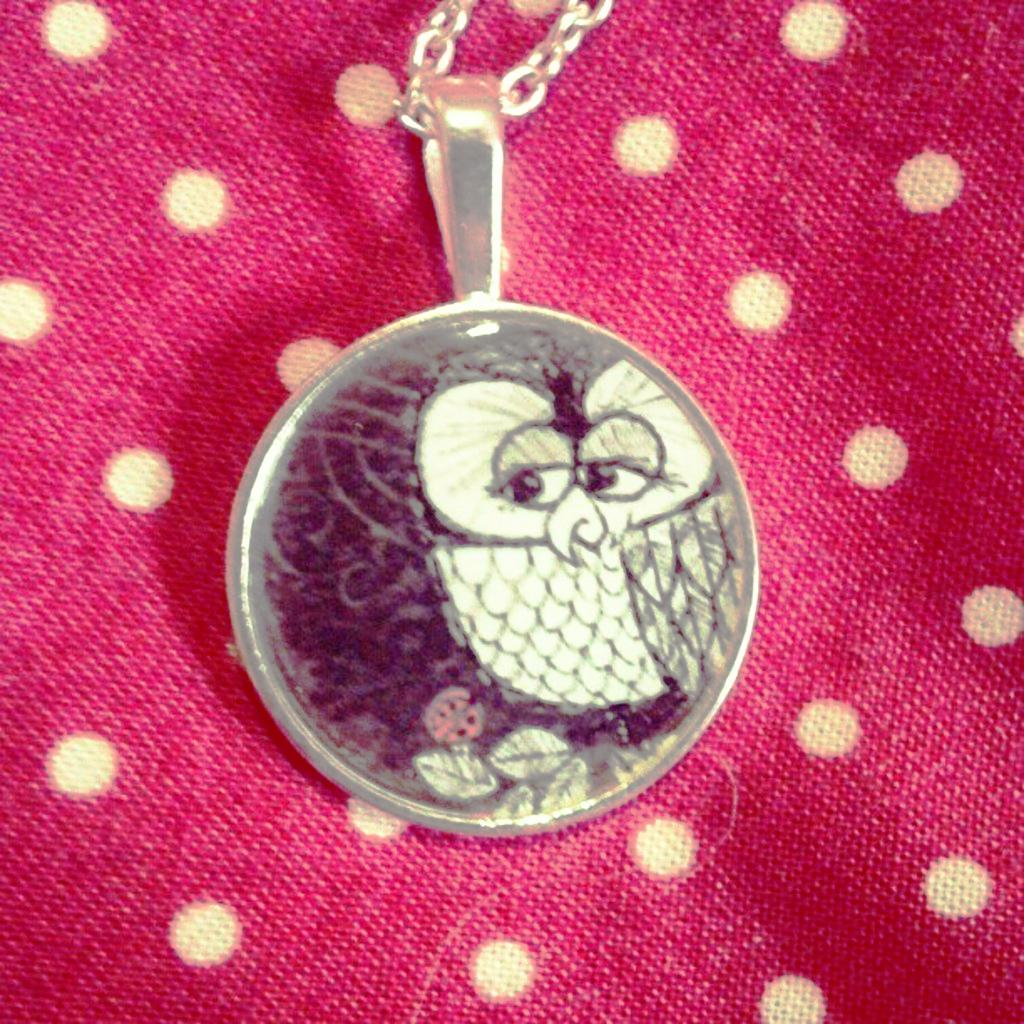Owl: (268, 322, 738, 812)
